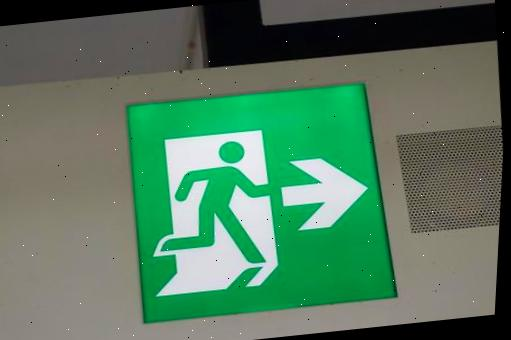emergency_exit: (125, 81, 398, 324)
